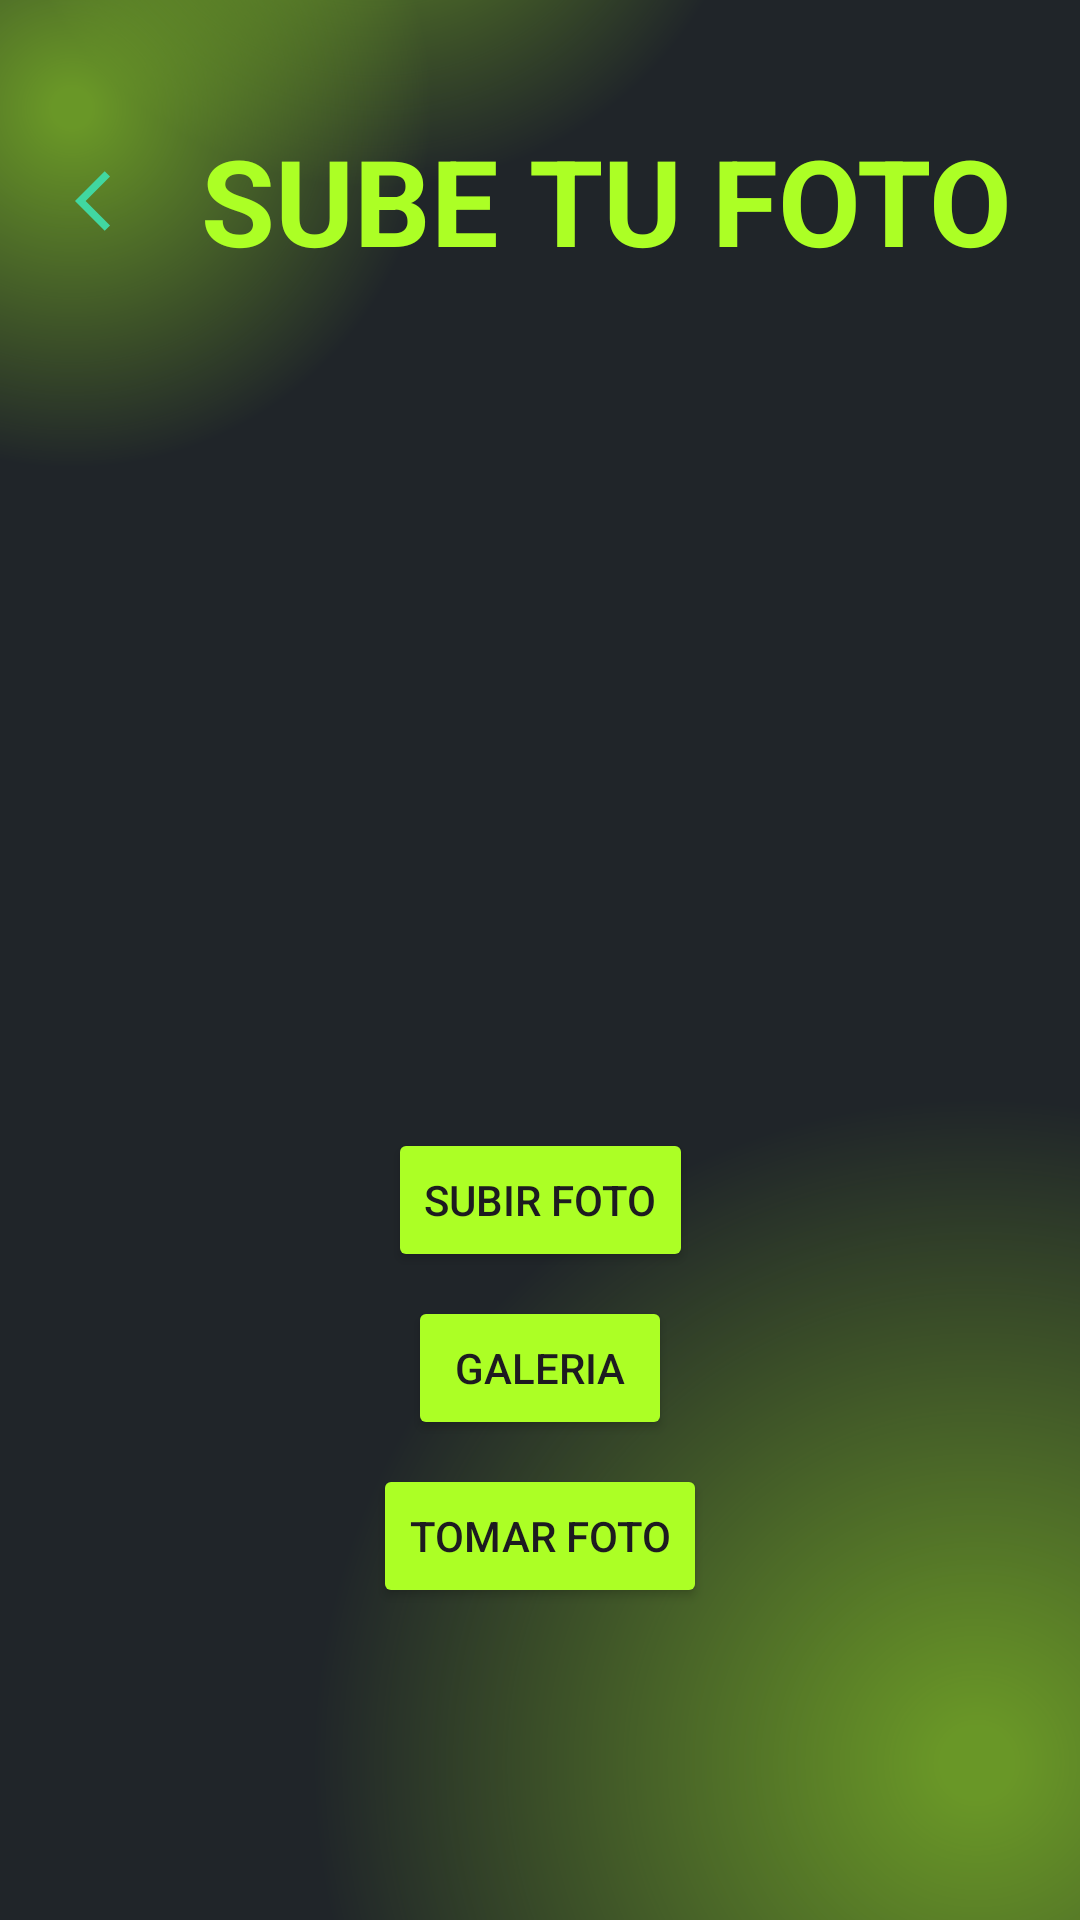

Where icons sit on this 1080px x 1920px app screen, as Rect(x1, y1, x2, y2):
regresar: Rect(75, 171, 110, 231)
